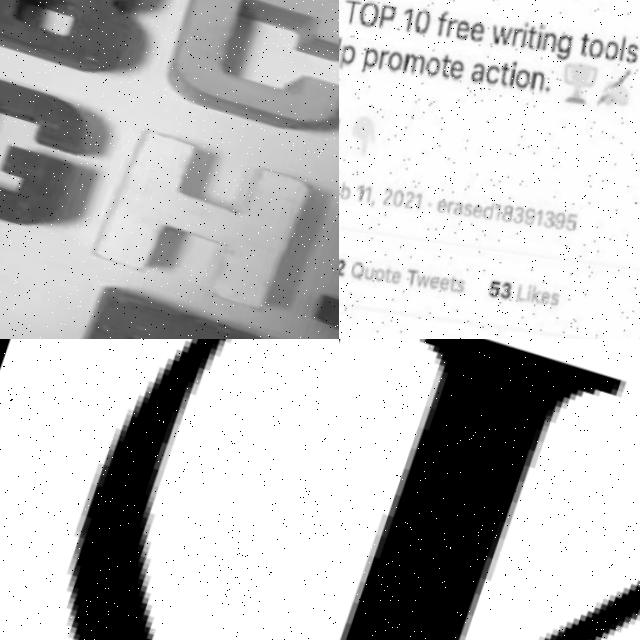0: (4, 339, 339, 640), (410, 5, 436, 37), (392, 187, 409, 208)
1: (398, 4, 419, 34), (412, 189, 429, 213), (363, 182, 379, 204), (355, 181, 369, 201), (534, 206, 548, 226), (494, 201, 507, 221)
2: (382, 185, 399, 206), (403, 188, 420, 209), (339, 254, 351, 275)
3: (513, 202, 530, 223), (543, 207, 560, 228), (501, 279, 518, 300)
5: (490, 277, 507, 298), (566, 210, 583, 230)
8: (502, 202, 519, 223)
9: (524, 204, 541, 225), (554, 209, 571, 229)
B: (0, 0, 158, 71)
C: (164, 0, 339, 138)
G: (0, 59, 109, 232)
H: (101, 126, 323, 311)
M: (60, 282, 294, 339)
V: (339, 339, 640, 640)
